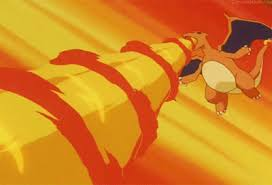charizard: (160, 7, 271, 117)
